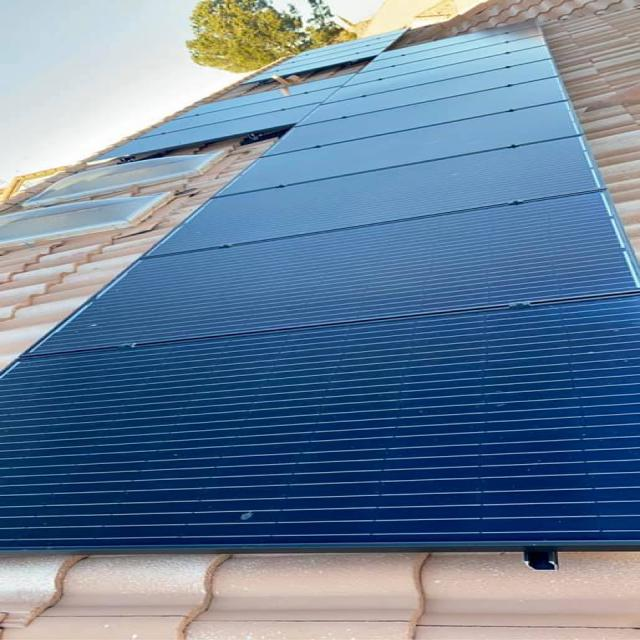clean-solar-panel: (5, 26, 635, 550)
